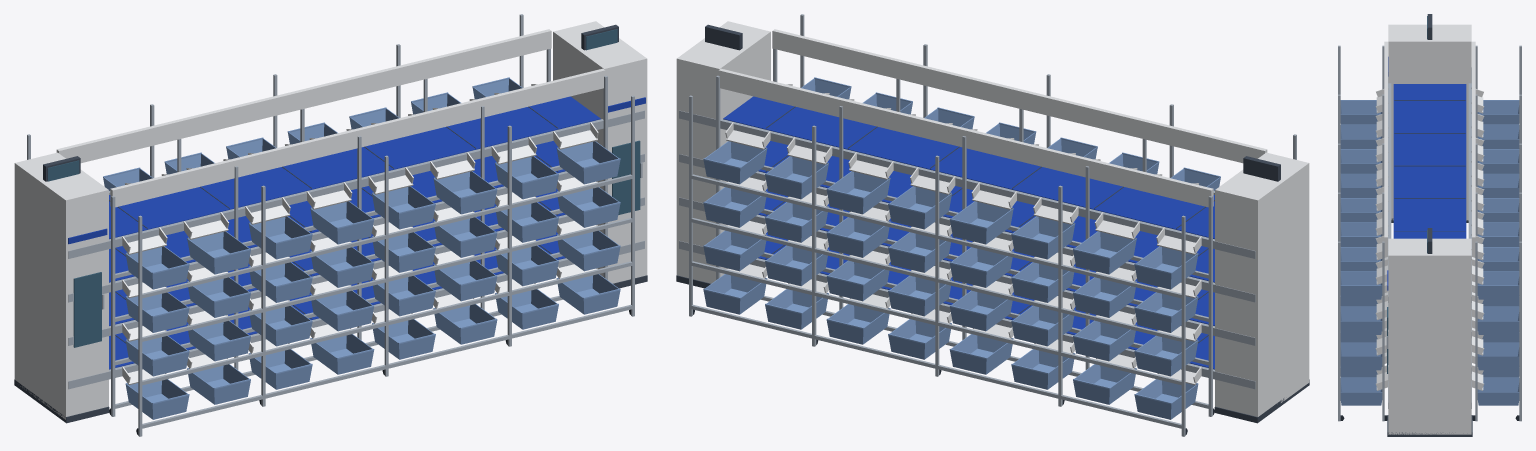
Rendered from SM_MPR_SorterCAD64.fbx.
3 renders of one model, left to right at view 1: azimuth 30°, elevation 25°; view 2: azimuth 150°, elevation 25°; view 3: azimuth 270°, elevation 25°, orthographic. The views are drawn at different scales.
Parts seen in each view (by area): view 1: SM_MPR_SorterCAD64; view 2: SM_MPR_SorterCAD64; view 3: SM_MPR_SorterCAD64.
Boxes of the visible parts, x1,y1,x2,y2 form: SM_MPR_SorterCAD64: [14, 14, 647, 436]; SM_MPR_SorterCAD64: [676, 14, 1309, 436]; SM_MPR_SorterCAD64: [1338, 14, 1521, 436].
Size of the model in its own units: 623 by 209 by 245.
